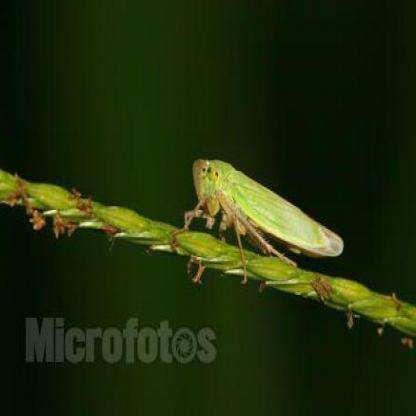Green-Leafhopper: (184, 157, 344, 286)
